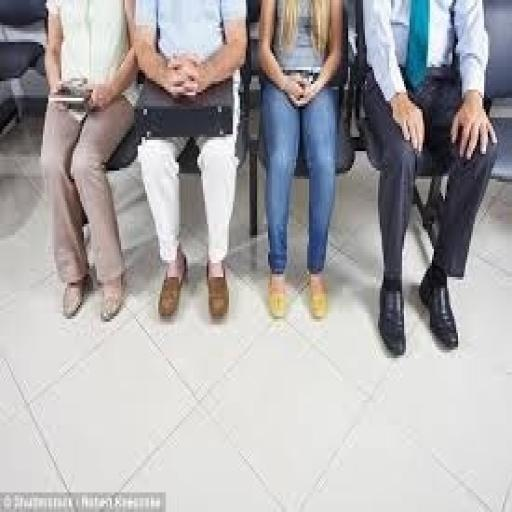sitting: (35, 0, 498, 355), (357, 0, 498, 355), (132, 0, 250, 319), (39, 0, 142, 322)
